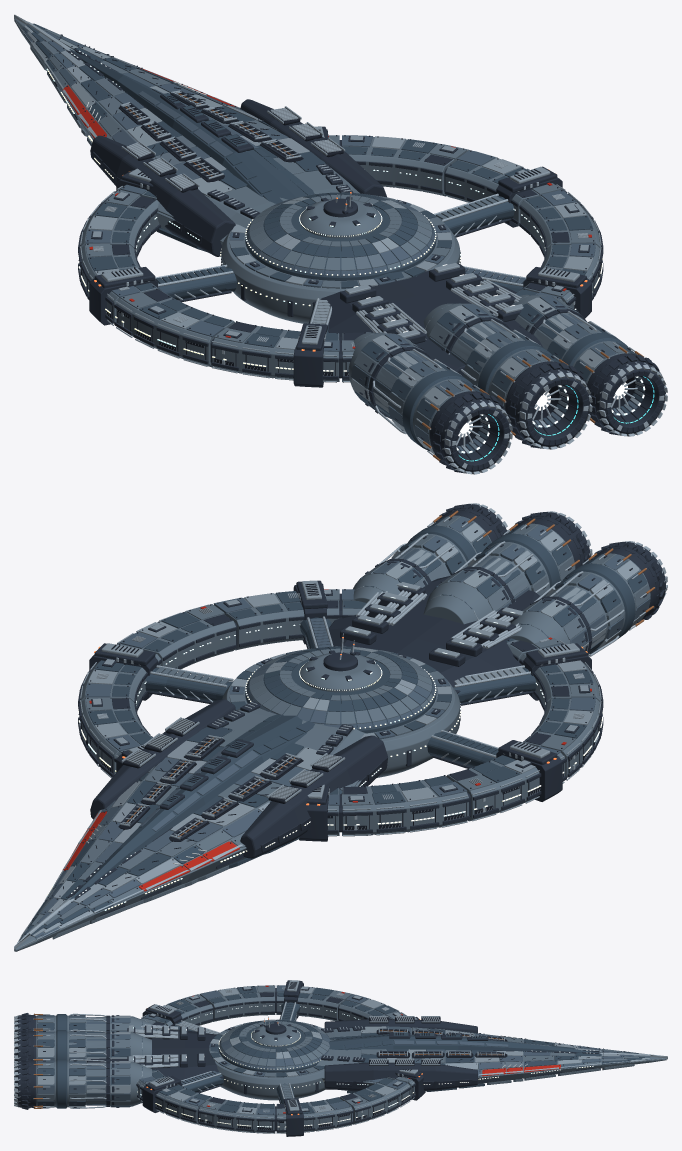
File: natural_selection.glb
3 views of the same model, one above another, from view 1: azimuth 30°, elevation 25°; view 2: azimuth 150°, elevation 25°; view 3: azimuth 270°, elevation 25° (orthographic). The views are drawn at different scales.
Visible parts, largest first — view 1: Propulsion__Gunmetal_frame, Ring_Outer__Armor_01, Ring_Outer__Gunmetal_frame, Core_CentralDisc__Armor_01, Hull_ForwardWedge__Gunmetal_frame, Ring_Outer__Armor_02, Hull_ForwardWedge__Armor_02, Propulsion__Armor_01, Propulsion__Machined_titanium, Propulsion__Armor_02, Ring_Outer__Armor_03, Hull_ForwardWedge__Armor_01 (+16 smaller); view 2: Ring_Outer__Armor_01, Propulsion__Gunmetal_frame, Ring_Outer__Gunmetal_frame, Hull_ForwardWedge__Gunmetal_frame, Ring_Outer__Armor_02, Propulsion__Armor_01, Core_CentralDisc__Armor_01, Hull_ForwardWedge__Armor_02, Hull_ForwardWedge__Armor_01, Ring_Outer__Armor_03, Propulsion__Armor_02, Hull_ForwardWedge__Armor_03 (+14 smaller); view 3: Ring_Outer__Armor_01, Hull_ForwardWedge__Gunmetal_frame, Ring_Outer__Gunmetal_frame, Propulsion__Gunmetal_frame, Core_CentralDisc__Armor_01, Propulsion__Armor_01, Hull_ForwardWedge__Armor_02, Ring_Outer__Armor_02, Hull_ForwardWedge__Armor_01, Propulsion__Armor_02, Ring_Outer__Armor_03, Core_CentralDisc__Armor_02 (+14 smaller).
Boxes of the visible parts, left/top/right/bottom form: Propulsion__Gunmetal_frame: left=312, top=263, right=665, bottom=472; Ring_Outer__Armor_01: left=80, top=135, right=600, bottom=381; Ring_Outer__Gunmetal_frame: left=78, top=126, right=603, bottom=387; Core_CentralDisc__Armor_01: left=221, top=192, right=459, bottom=323; Hull_ForwardWedge__Gunmetal_frame: left=32, top=34, right=386, bottom=256; Ring_Outer__Armor_02: left=88, top=139, right=593, bottom=381; Hull_ForwardWedge__Armor_02: left=26, top=23, right=417, bottom=284; Propulsion__Armor_01: left=348, top=294, right=643, bottom=453; Propulsion__Machined_titanium: left=356, top=279, right=667, bottom=474; Propulsion__Armor_02: left=354, top=294, right=643, bottom=451; Ring_Outer__Armor_03: left=80, top=126, right=601, bottom=382; Hull_ForwardWedge__Armor_01: left=14, top=18, right=359, bottom=245; Ring_Outer__Armor_01: left=80, top=589, right=600, bottom=835; Propulsion__Gunmetal_frame: left=328, top=504, right=665, bottom=693; Ring_Outer__Gunmetal_frame: left=78, top=580, right=603, bottom=841; Hull_ForwardWedge__Gunmetal_frame: left=32, top=699, right=387, bottom=925; Ring_Outer__Armor_02: left=88, top=591, right=593, bottom=835; Propulsion__Armor_01: left=353, top=515, right=650, bottom=651; Core_CentralDisc__Armor_01: left=222, top=646, right=459, bottom=777; Hull_ForwardWedge__Armor_02: left=24, top=652, right=397, bottom=935; Hull_ForwardWedge__Armor_01: left=14, top=708, right=365, bottom=951; Ring_Outer__Armor_03: left=80, top=580, right=601, bottom=836; Propulsion__Armor_02: left=356, top=516, right=647, bottom=654; Hull_ForwardWedge__Armor_03: left=22, top=717, right=345, bottom=936; Ring_Outer__Armor_01: left=137, top=985, right=414, bottom=1133; Hull_ForwardWedge__Gunmetal_frame: left=321, top=1019, right=628, bottom=1091; Ring_Outer__Gunmetal_frame: left=136, top=980, right=425, bottom=1136; Propulsion__Gunmetal_frame: left=14, top=1013, right=223, bottom=1109; Core_CentralDisc__Armor_01: left=209, top=1019, right=329, bottom=1100; Propulsion__Armor_01: left=36, top=1015, right=151, bottom=1107; Hull_ForwardWedge__Armor_02: left=210, top=1028, right=649, bottom=1093; Ring_Outer__Armor_02: left=152, top=986, right=396, bottom=1133; Hull_ForwardWedge__Armor_01: left=316, top=1027, right=666, bottom=1085; Propulsion__Armor_02: left=37, top=1014, right=142, bottom=1108; Ring_Outer__Armor_03: left=137, top=980, right=417, bottom=1133; Core_CentralDisc__Armor_02: left=210, top=1019, right=328, bottom=1077.
Size of the model in its own units: 4.92 by 1.18 by 10.04.
